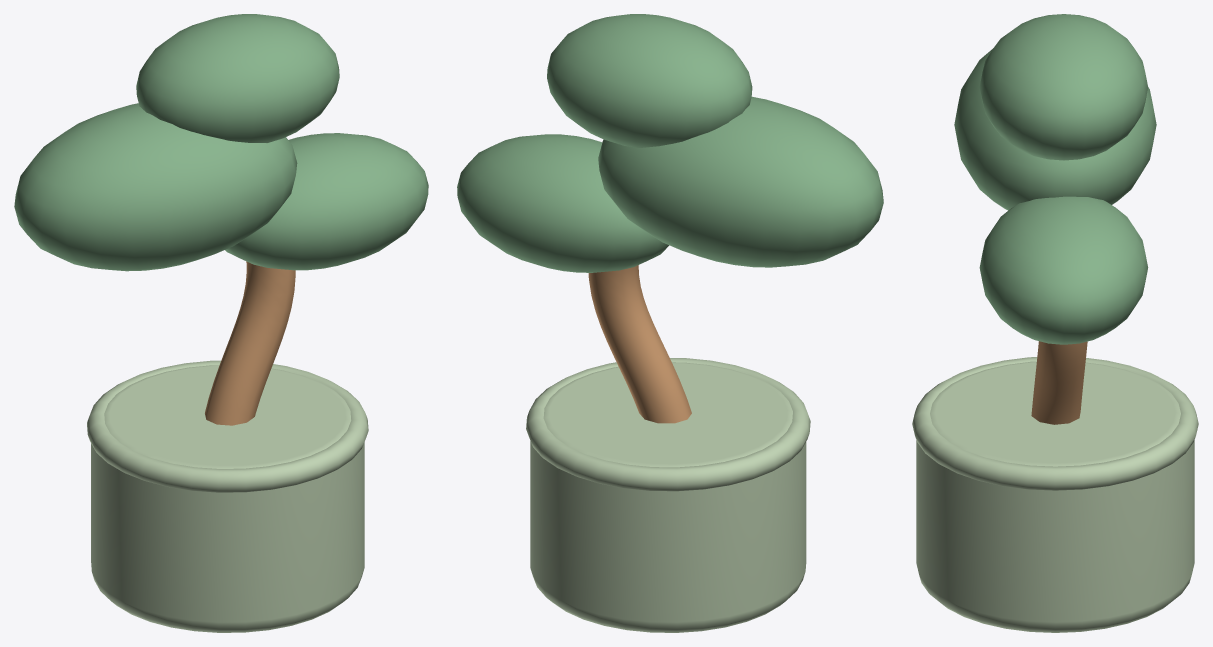
The model's file is japaneseBonsai.glb.
The picture shows the model from 3 angles, left to right: view 1: azimuth 30°, elevation 25°; view 2: azimuth 150°, elevation 25°; view 3: azimuth 270°, elevation 25°; orthographic projection.
Visible parts, largest first — view 1: Ceramic planter, Bonsai canopy, Bonsai canopy.002, Bonsai canopy.001, Pot rim, Bonsai trunk; view 2: Ceramic planter, Bonsai canopy, Bonsai canopy.002, Bonsai canopy.001, Pot rim, Bonsai trunk; view 3: Ceramic planter, Bonsai canopy.001, Bonsai canopy.002, Bonsai canopy, Pot rim, Bonsai trunk.
Part boxes in pixels (x1=…): Ceramic planter: x1=91, y1=365, x2=364, y2=632; Bonsai canopy: x1=14, y1=103, x2=297, y2=271; Bonsai canopy.002: x1=136, y1=14, x2=339, y2=142; Bonsai canopy.001: x1=225, y1=133, x2=428, y2=270; Pot rim: x1=87, y1=360, x2=368, y2=492; Bonsai trunk: x1=205, y1=261, x2=295, y2=425; Ceramic planter: x1=530, y1=362, x2=806, y2=632; Bonsai canopy: x1=598, y1=96, x2=883, y2=267; Bonsai canopy.002: x1=547, y1=14, x2=752, y2=147; Bonsai canopy.001: x1=457, y1=134, x2=668, y2=272; Pot rim: x1=526, y1=358, x2=810, y2=491; Bonsai trunk: x1=588, y1=265, x2=691, y2=423; Ceramic planter: x1=916, y1=361, x2=1194, y2=632; Bonsai canopy.001: x1=979, y1=196, x2=1148, y2=344; Bonsai canopy.002: x1=979, y1=14, x2=1148, y2=160; Bonsai canopy: x1=954, y1=49, x2=1156, y2=210; Pot rim: x1=912, y1=357, x2=1198, y2=490; Bonsai trunk: x1=1031, y1=341, x2=1087, y2=424.
Bounding box in the file's own units: 1.12 × 1.46 × 0.68.
